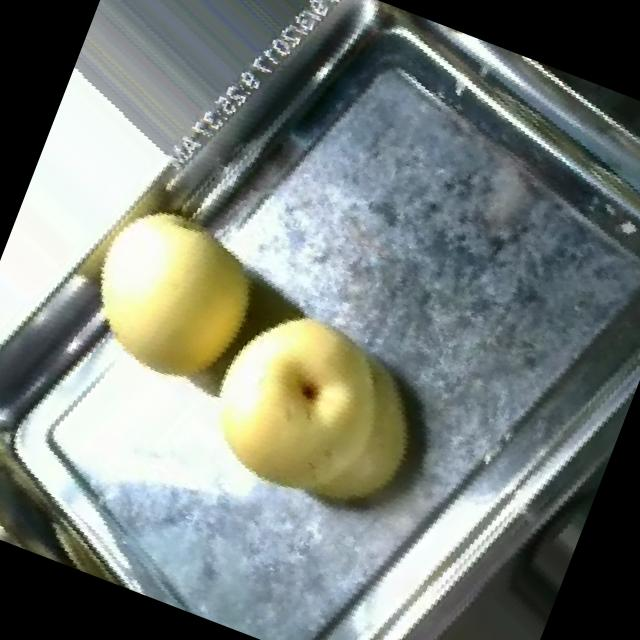Fruit: (155, 257, 479, 571), (44, 163, 305, 425)
